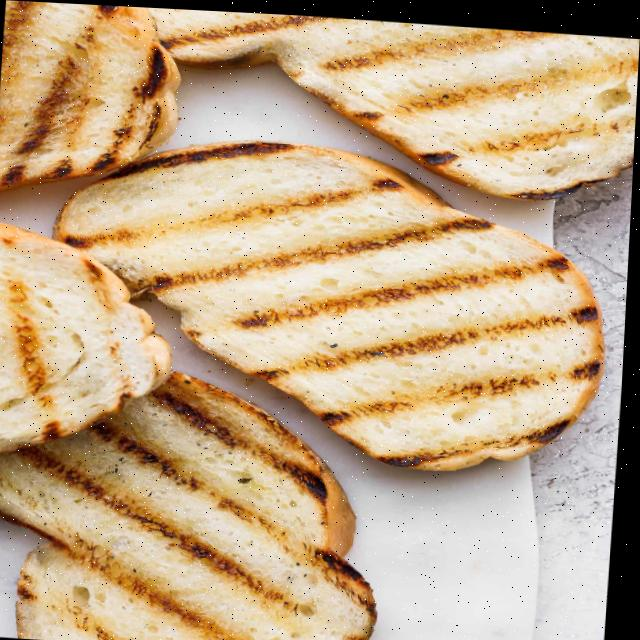Bread: (58, 138, 608, 465), (0, 371, 382, 640), (149, 6, 640, 193), (0, 222, 175, 454), (0, 0, 181, 190)
